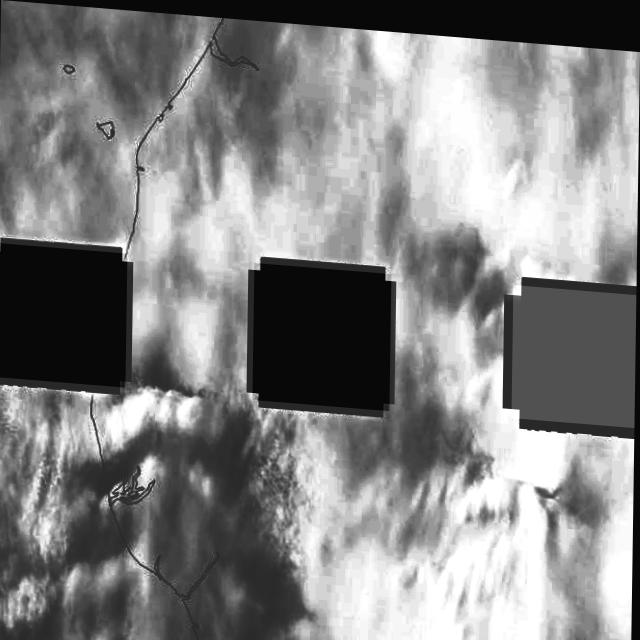qr_code: (253, 258, 391, 404), (0, 243, 127, 385), (512, 276, 637, 417)
